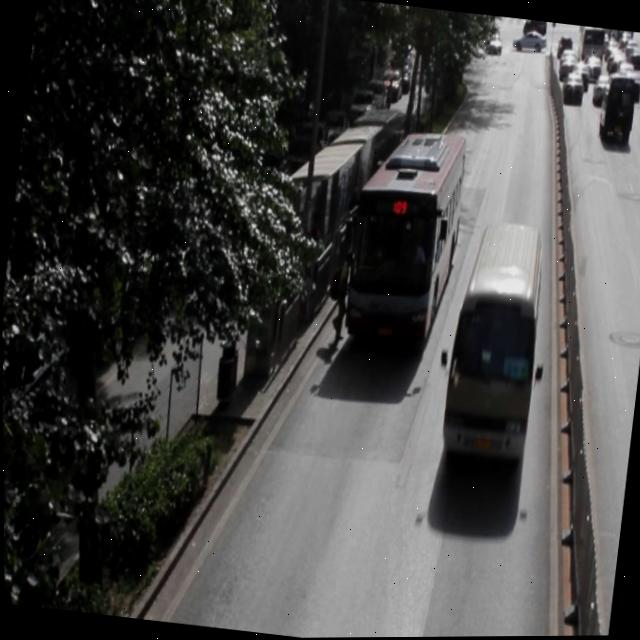truck: (436, 218, 549, 458)
van: (341, 122, 467, 347)
